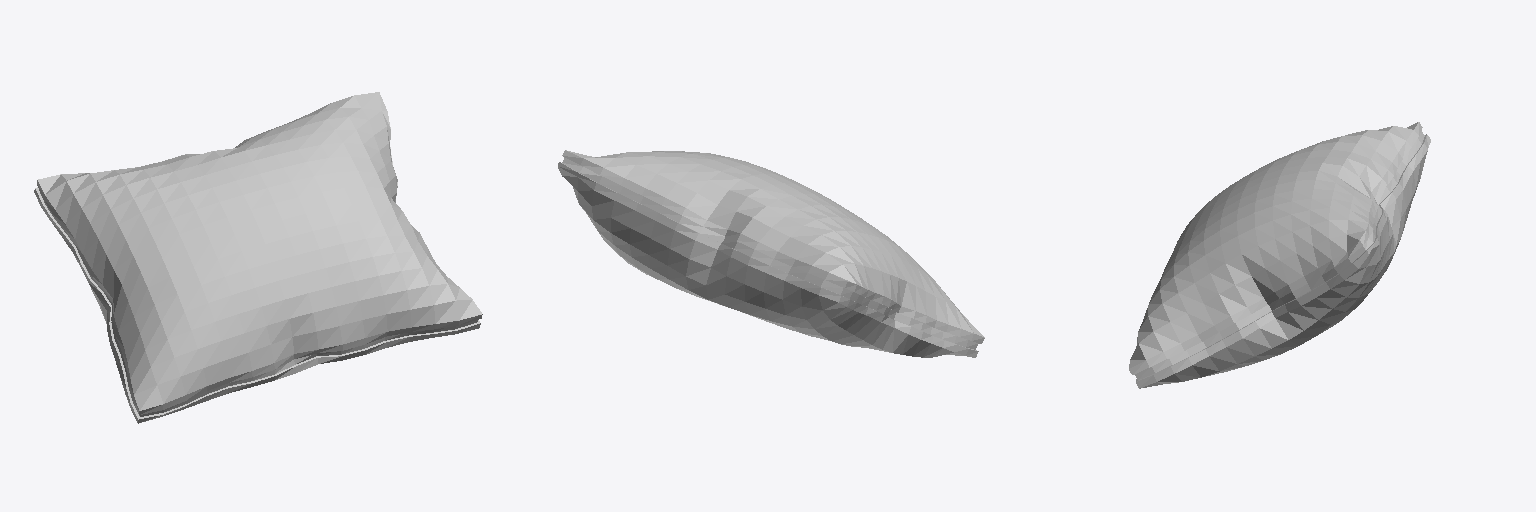
Rendered from PillowH.obj.
3 renders of one model, left to right at view 1: azimuth 30°, elevation 25°; view 2: azimuth 150°, elevation 25°; view 3: azimuth 270°, elevation 25°, orthographic.
Visible parts, largest first — view 1: pillow2; view 2: pillow2; view 3: pillow2.
Boxes of the visible parts, <box> form: pillow2: <box>34,92,482,423</box>; pillow2: <box>558,150,984,357</box>; pillow2: <box>1129,122,1430,388</box>.
Size of the model in its own units: 11.82 by 6.45 by 9.3.